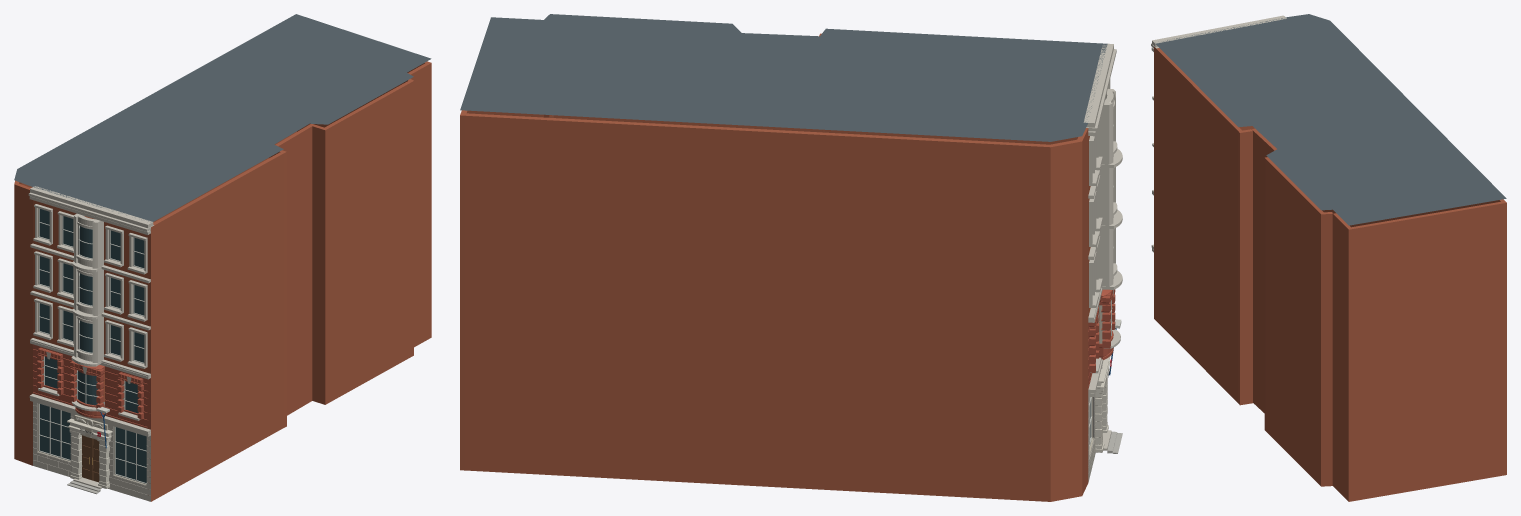
File: ksw-exterior-191708db093b.glb
The picture shows the model from 3 angles, left to right: view 1: azimuth 30°, elevation 25°; view 2: azimuth 150°, elevation 25°; view 3: azimuth 270°, elevation 25°; orthographic projection. The views are drawn at different scales.
Parts seen in each view (by area): view 1: KSW.001; view 2: KSW.001; view 3: KSW.001.
Boxes of the visible parts, box(x1,y1,x2,y2) form: KSW.001: box(14, 14, 431, 501); KSW.001: box(460, 14, 1122, 501); KSW.001: box(1151, 14, 1506, 501).
Size of the model in its own units: 33.77 by 20.55 by 23.99.
